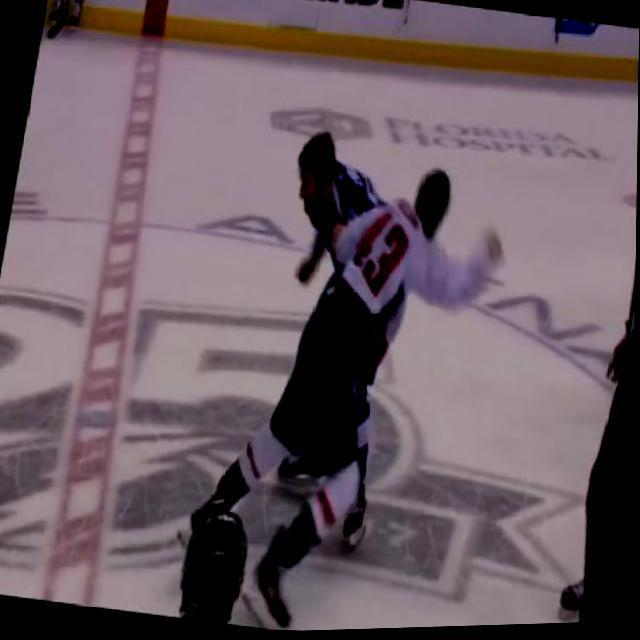fight: (235, 119, 522, 561)
